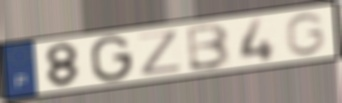4: (236, 16, 280, 64)
8: (43, 41, 82, 89)
B: (186, 21, 233, 73)
G: (89, 34, 134, 84), (283, 11, 327, 57)
Z: (136, 28, 186, 78)
